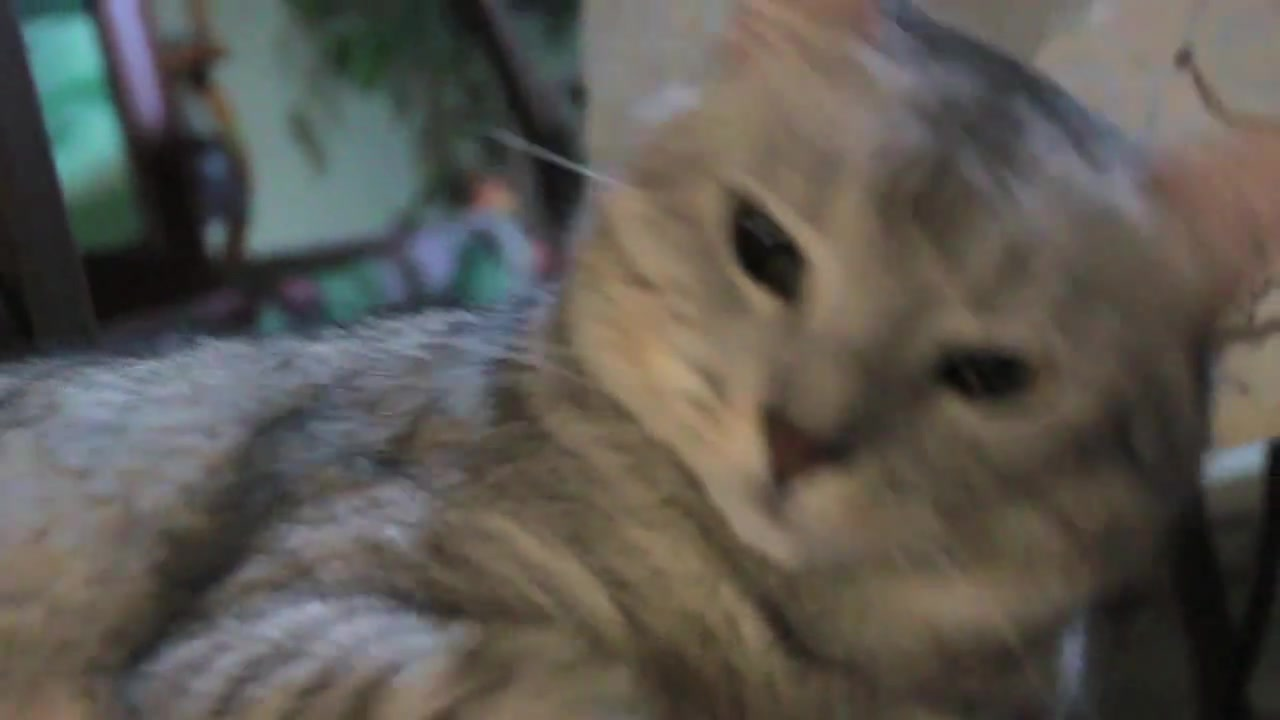cat: (4, 2, 1280, 720)
